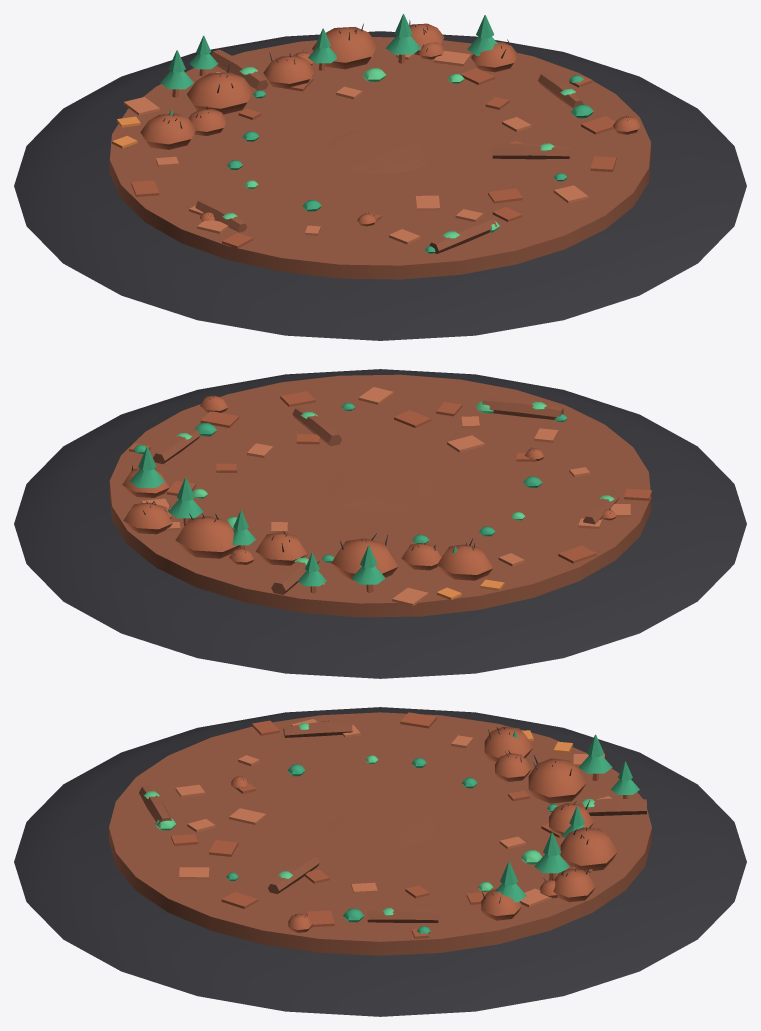
Rendered from bramble_hog.glb.
3 views of the same model, one above another, from view 1: azimuth 30°, elevation 25°; view 2: azimuth 150°, elevation 25°; view 3: azimuth 270°, elevation 25° (orthographic).
Visible parts, largest first — view 1: BrambleHogGround; view 2: BrambleHogGround; view 3: BrambleHogGround.
Part boxes in pixels (x1=…): BrambleHogGround: x1=14, y1=14, x2=746, y2=340; BrambleHogGround: x1=14, y1=369, x2=746, y2=678; BrambleHogGround: x1=14, y1=707, x2=746, y2=1016.
Size of the model in its own units: 16.2 by 2.02 by 16.2.
Materials: 1 (1 with a texture image).
